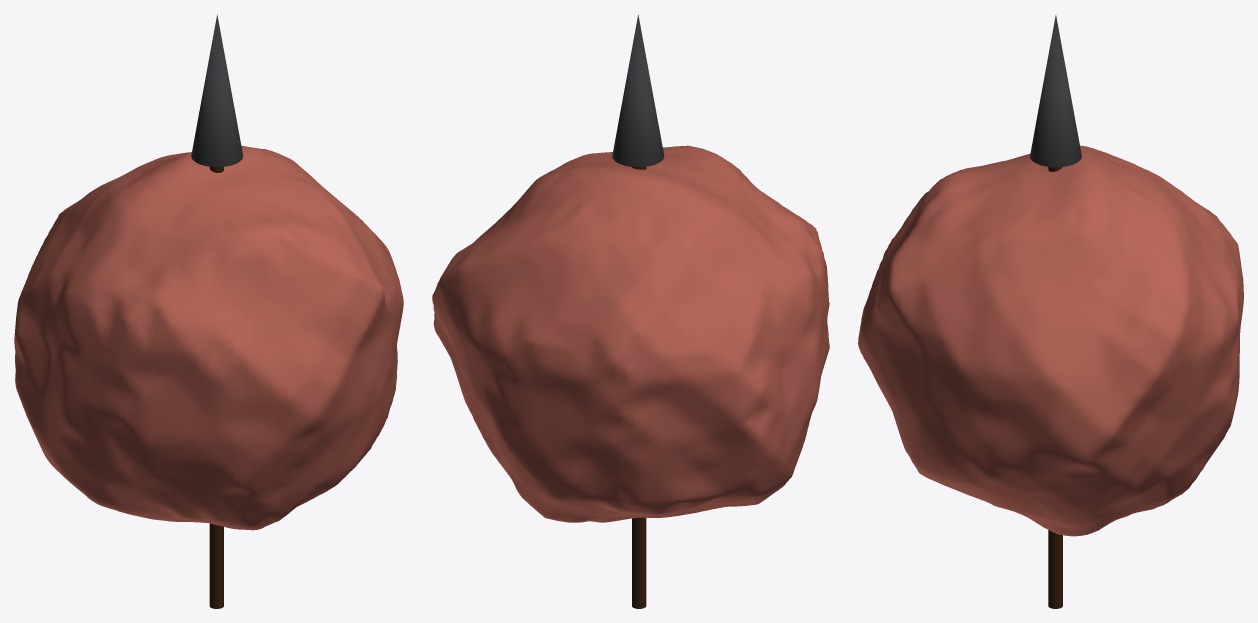
Rendered from Boulder.fbx.
3 views of the same model, side by side, from view 1: azimuth 30°, elevation 25°; view 2: azimuth 150°, elevation 25°; view 3: azimuth 270°, elevation 25° (orthographic).
Parts seen in each view (by area): view 1: Boulder, Spear shaft; view 2: Boulder, Spear shaft; view 3: Boulder, Spear shaft.
Part boxes in pixels (left/top/right/bottom): Boulder: left=14, top=145, right=403, bottom=530; Spear shaft: left=191, top=15, right=243, bottom=608; Boulder: left=432, top=145, right=829, bottom=522; Spear shaft: left=612, top=15, right=664, bottom=608; Boulder: left=858, top=145, right=1243, bottom=536; Spear shaft: left=1030, top=15, right=1081, bottom=608.
Bounding box in the file's own units: 218 × 359 × 212.
